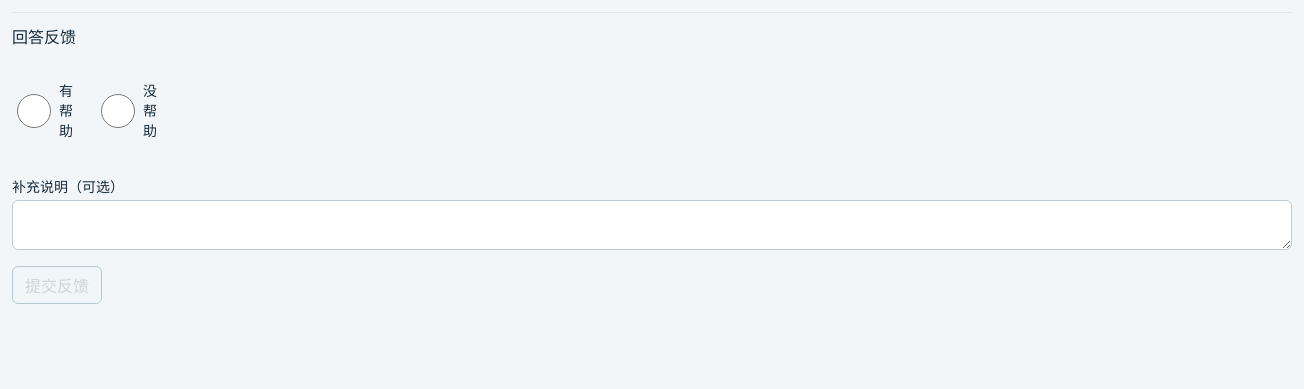
it: reloads an existing row after a conflicting create so the owner can edit it
This screenshot has width=1304, height=389.
What coordinates should you click on to do the following:
click the radio button labelled "有帮助"
I would click on:
 (34, 111)
Its box is [17,89,51,133].
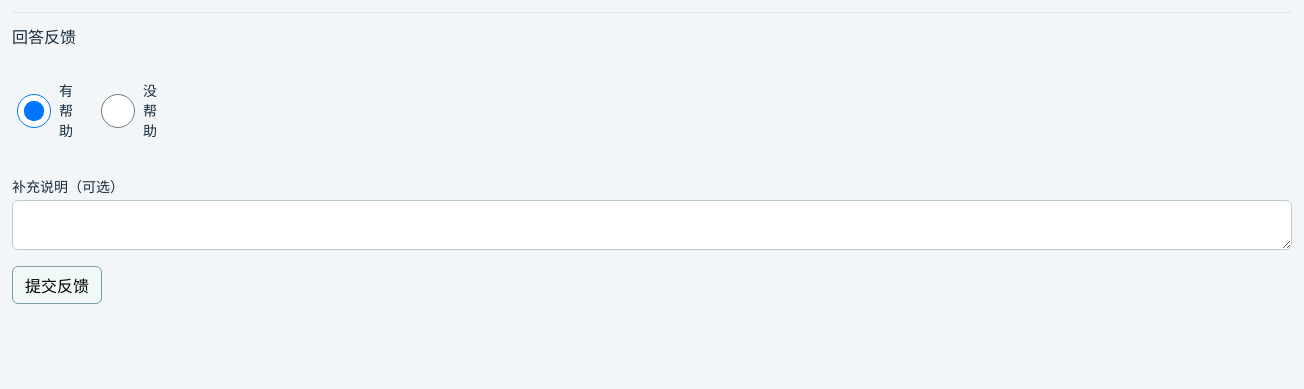
What coordinates should you click on to do the following:
click the button with aria-label "提交反馈"
I would click on:
 (57, 285)
Its box is [12,266,102,304].
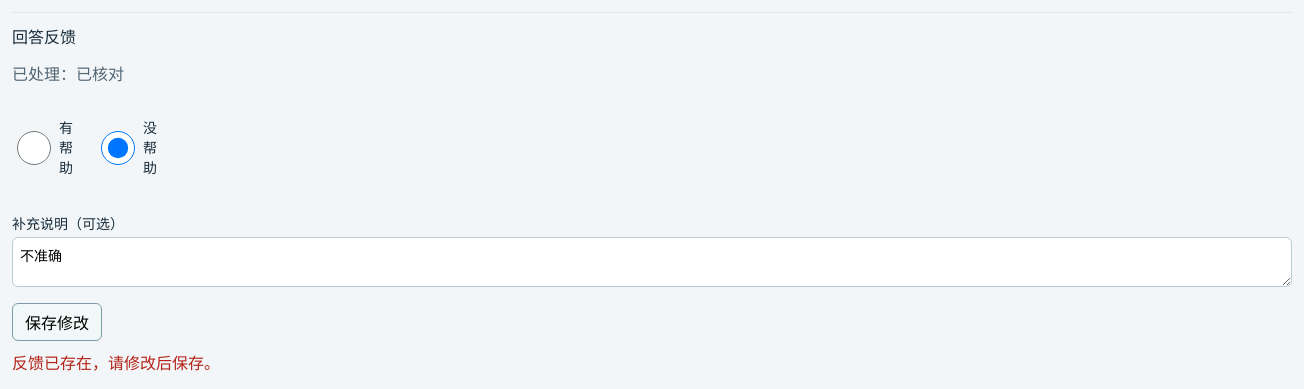
Expected: the button with aria-label "保存反馈修改" is shown, [12,303,102,341]
Expected: the message "反馈已存在，请修改后保存。" is shown, [12,353,220,373]
